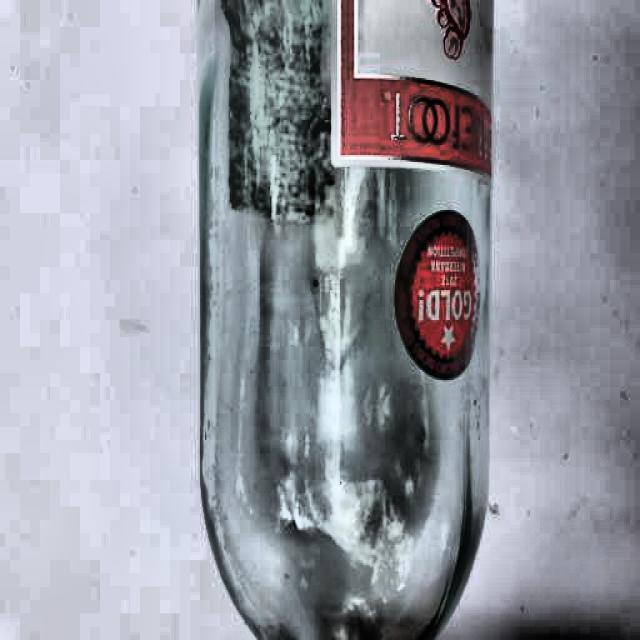glass: (187, 1, 493, 640)
